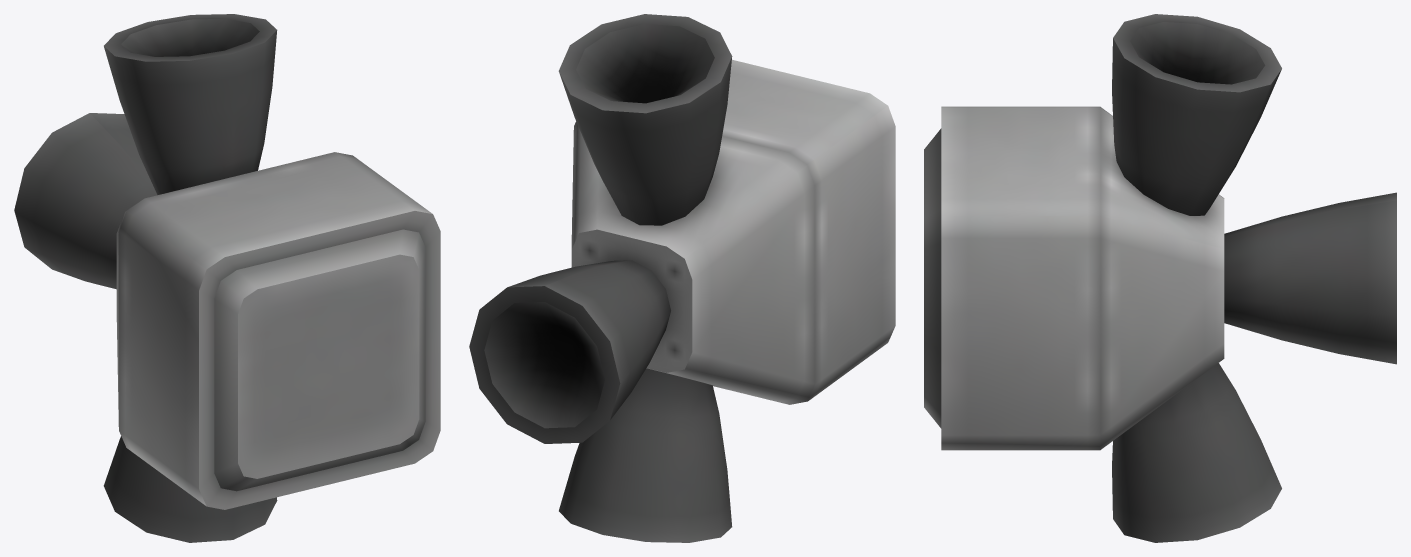
The model's file is Tantares_RCS_3_E.obj.
3 views of the same model, side by side, from view 1: azimuth 30°, elevation 25°; view 2: azimuth 150°, elevation 25°; view 3: azimuth 270°, elevation 25° (orthographic).
Parts seen in each view (by area): view 1: Tantares_RCS_3_E; view 2: Tantares_RCS_3_E; view 3: Tantares_RCS_3_E.
Boxes of the visible parts, x1,y1,x2,y2 form: Tantares_RCS_3_E: [14, 14, 440, 542]; Tantares_RCS_3_E: [469, 14, 895, 542]; Tantares_RCS_3_E: [924, 14, 1396, 542].
Size of the model in its own units: 0.1 by 0.1923 by 0.1712.
